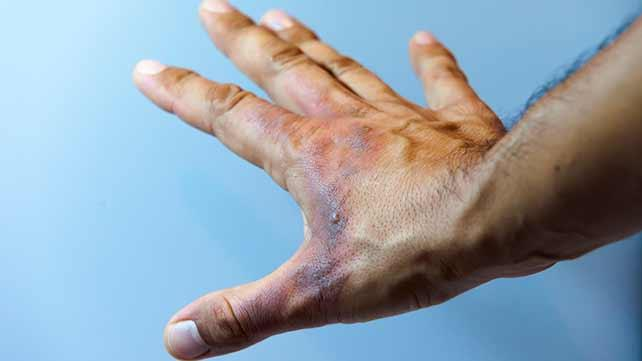burned-skin: (245, 76, 394, 329)
